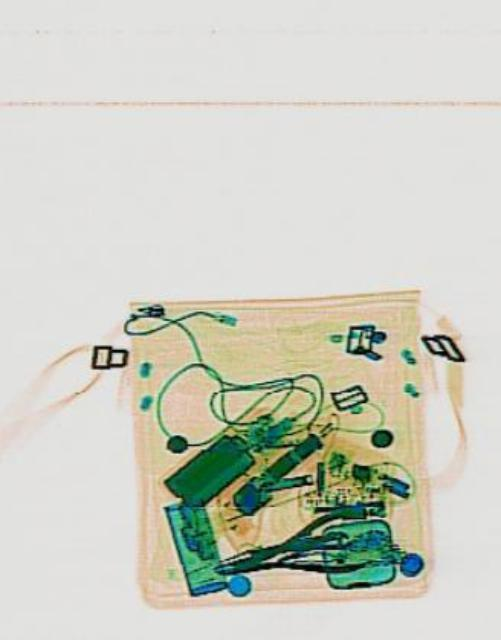Pliers: (205, 500, 374, 600)
